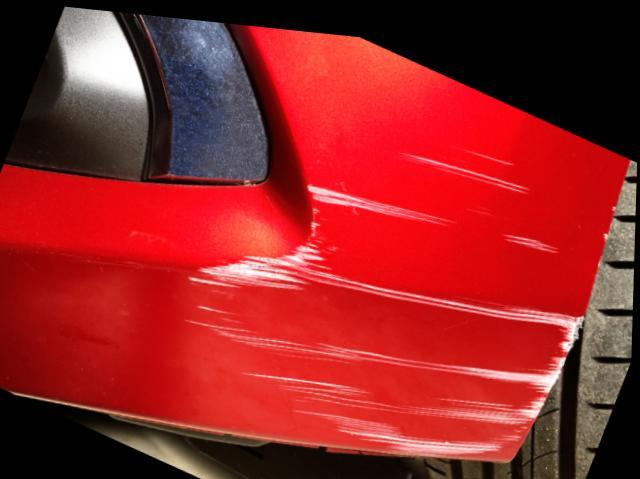scratch: (183, 132, 588, 452)
